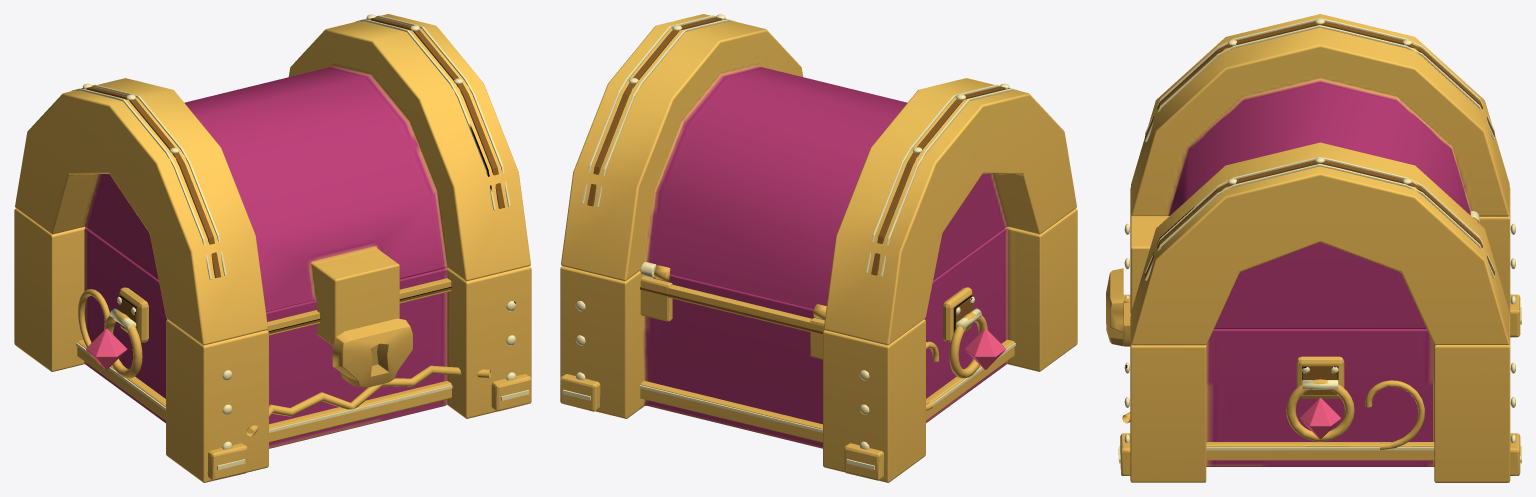
File: royal-rose.glb
3 renders of one model, left to right at view 1: azimuth 30°, elevation 25°; view 2: azimuth 150°, elevation 25°; view 3: azimuth 270°, elevation 25°, orthographic.
Visible parts, largest first — view 1: LidShell, Body; view 2: LidShell, Body; view 3: LidShell, Body.
Part boxes in pixels (bbox=[...]): LidShell: bbox=[15, 14, 530, 345]; Body: bbox=[14, 208, 531, 482]; LidShell: bbox=[561, 14, 1076, 345]; Body: bbox=[560, 208, 1077, 482]; LidShell: bbox=[1130, 14, 1509, 345]; Body: bbox=[1106, 187, 1521, 482].
Size of the model in its own units: 2.22 by 1.83 by 2.19.
Materials: 2 (2 with a texture image).
